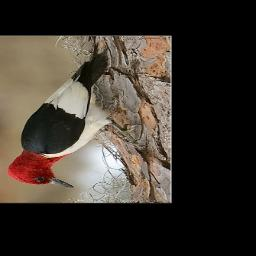Woodpecker: (4, 45, 145, 190)
